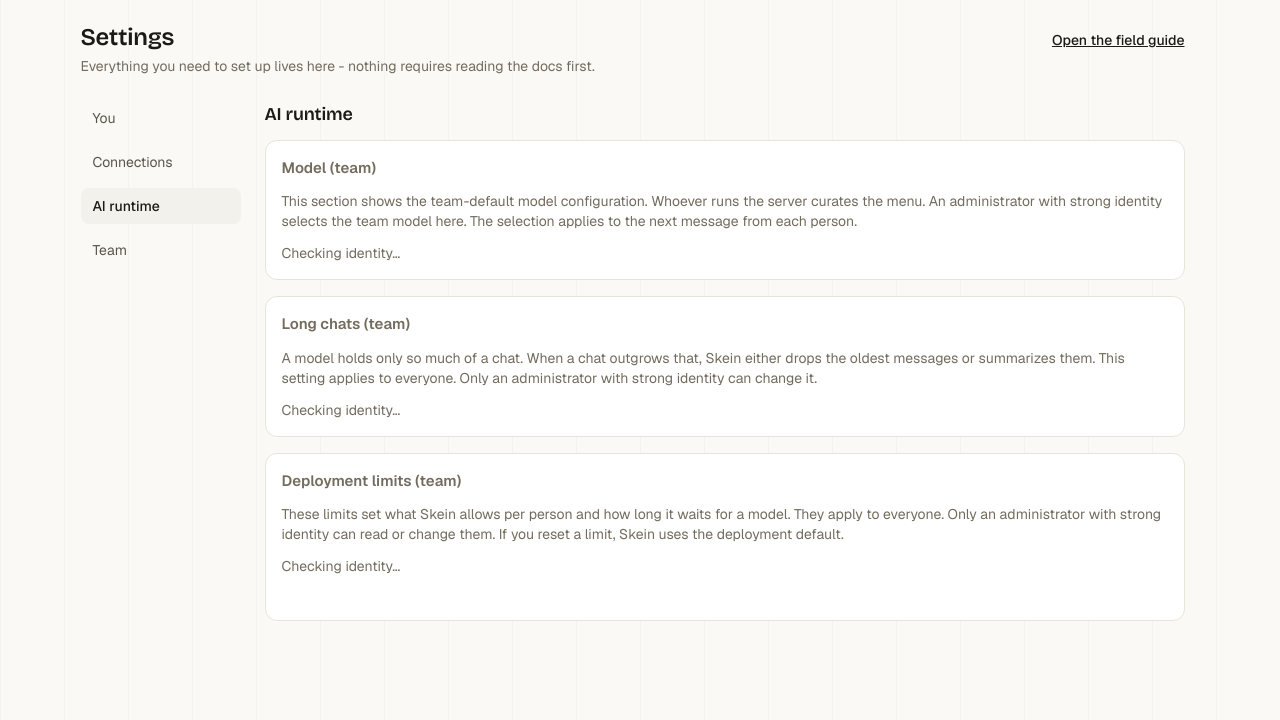
Test: the model section › names the model in force when it is outside the menu
Click the link "AI runtime". click: (160, 206)
box: [80,188,240,224]
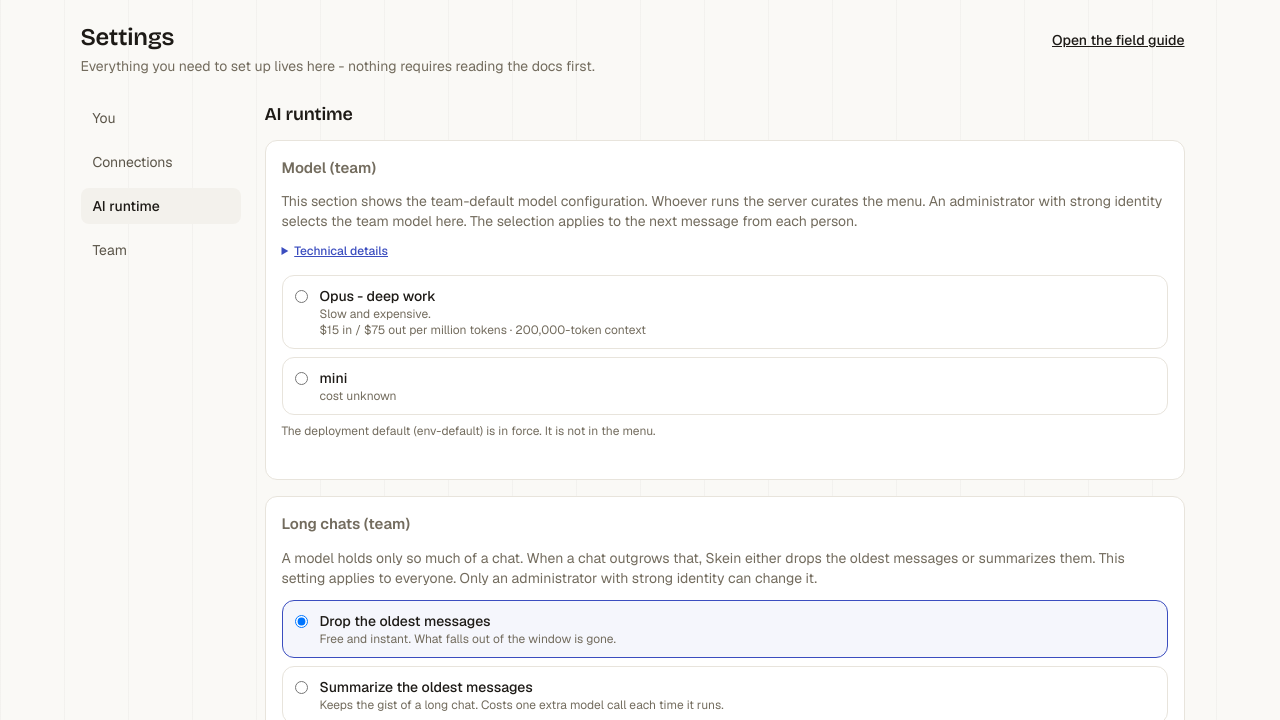
Check: the text "is in force" shows "env-default", box [417,423,480,439]
Check: the text "is in force" shows "It is not in the menu.", box [480,423,656,439]
